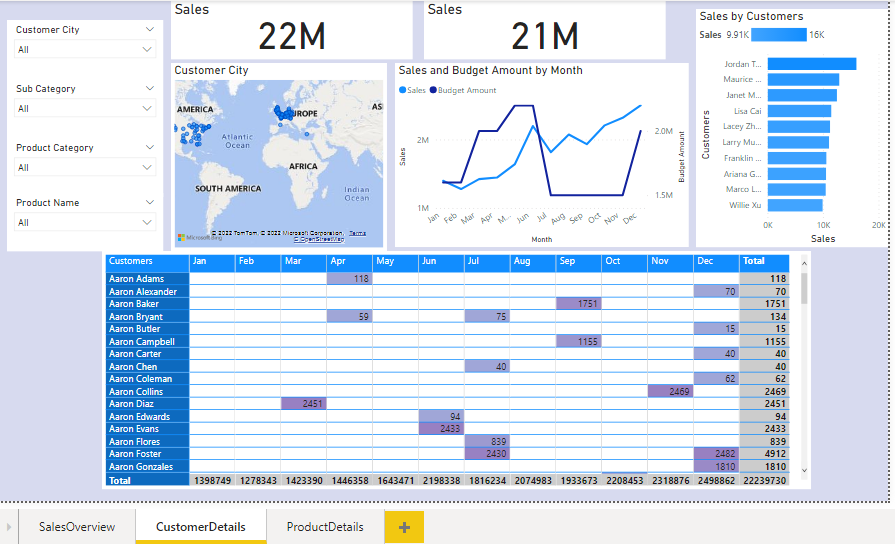

What the dashboard file says about the page in this screenshot:
{"tool":"powerbi","page":{"name":"CustomerDetails","canvas":[1280,720],"ordinal":1},"visuals":[{"type":"slicer","fields":{"Values":["CUSTOMER_TABLE.Customer City"]},"box":[10.1,27.4,224.6,85],"z":0},{"type":"slicer","fields":{"Values":["DIM_PRODUCT.Sub Category"]},"box":[10.1,112.3,224.6,85],"z":1000},{"type":"slicer","fields":{"Values":["DIM_PRODUCT.Product Category"]},"box":[10.1,197.3,224.6,85],"z":2000},{"type":"slicer","fields":{"Values":["DIM_PRODUCT.Product Name"]},"box":[10.1,276.5,224.6,83.5],"z":3000},{"type":"barChart","fields":{"Category":["CUSTOMER_TABLE.FullName"],"Y":["Key measures.Sales"]},"box":[1002.2,11.5,277.9,342.7],"z":4000},{"type":"map","fields":{"Category":["CUSTOMER_TABLE.Customer City"]},"box":[246.2,89.3,311,270.7],"z":5000},{"type":"pivotTable","fields":{"Values":["Key measures.Sales"],"Rows":["CUSTOMER_TABLE.FullName"],"Columns":["DATE_CALENDAR.MonthShort"]},"box":[146.9,360,1021,342.7],"z":6000},{"type":"lineChart","fields":{"Y":["Key measures.Sales"],"Y2":["Key measures.Budget Amount"],"Category":["DATE_CALENDAR.MonthShort"]},"box":[568.8,89.3,423.4,265],"z":7000},{"type":"card","title":"Sales","fields":{"Values":["Key measures.Sales"]},"box":[246.2,0,348.5,83.5],"z":8000},{"type":"card","title":"Sales","fields":{"Values":["Key measures.Budget Amount"]},"box":[610.6,0,348.5,83.5],"z":9000}]}

Visuals, with their boxes on the page's 1280x720 design canvas (x1, y1, x2, y2). These are canvas units, not pixel positions in the 895x544 screenshot, which may show the page scaled, cropped or inside an application window:
slicer - CUSTOMER_TABLE.Customer City: [10, 27, 235, 112]
slicer - DIM_PRODUCT.Sub Category: [10, 112, 235, 197]
slicer - DIM_PRODUCT.Product Category: [10, 197, 235, 282]
slicer - DIM_PRODUCT.Product Name: [10, 276, 235, 360]
barChart - CUSTOMER_TABLE.FullName x Key measures.Sales: [1002, 12, 1280, 354]
map - CUSTOMER_TABLE.Customer City: [246, 89, 557, 360]
pivotTable - Key measures.Sales x CUSTOMER_TABLE.FullName: [147, 360, 1168, 703]
lineChart - Key measures.Sales x Key measures.Budget Amount: [569, 89, 992, 354]
"Sales" card: [246, 0, 595, 84]
"Sales" card: [611, 0, 959, 84]
